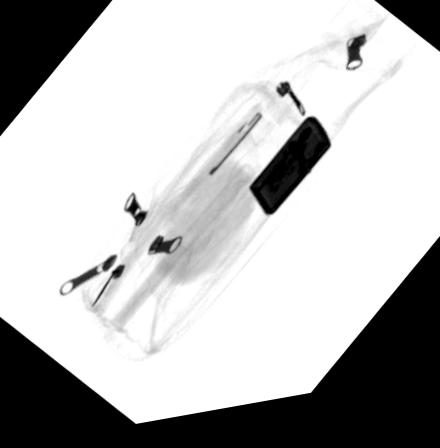Lighter: (247, 127, 330, 224)
